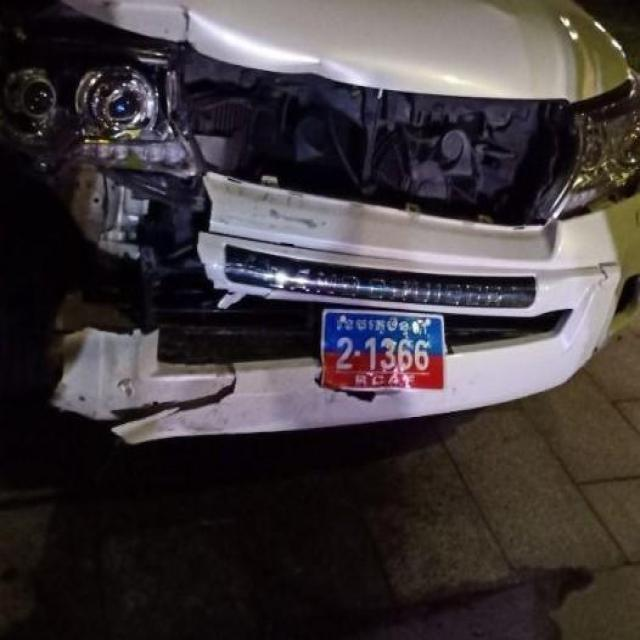RCAF: (336, 316, 410, 337)
